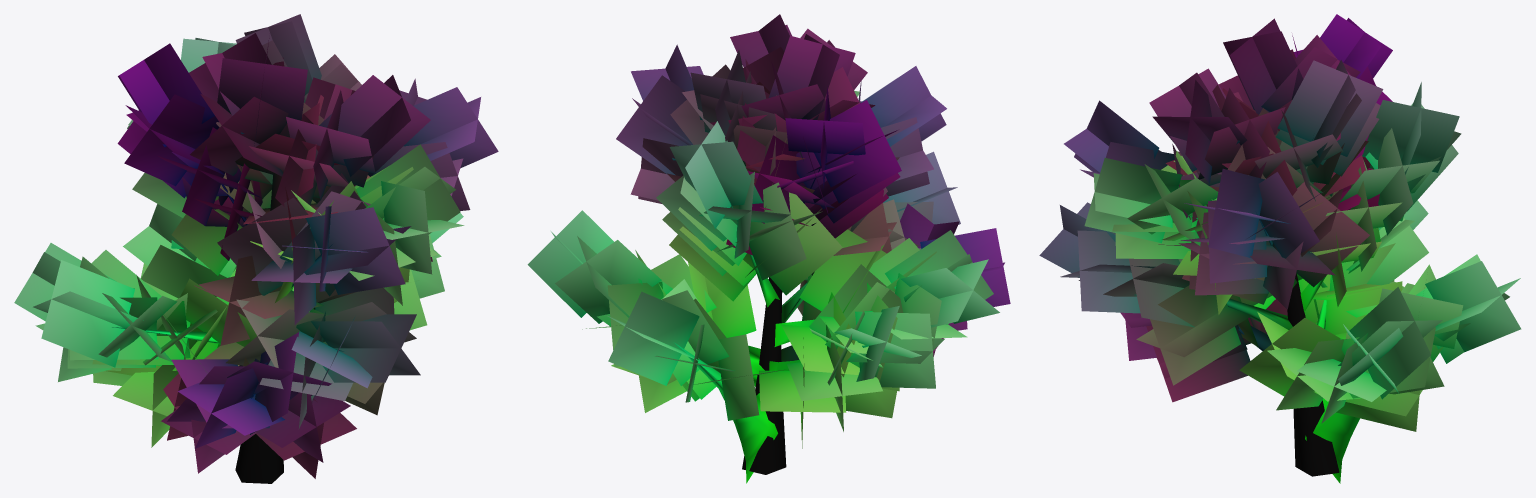
Rendered from URP_P11_Tree_10_LOD_3.fbx.
3 renders of one model, left to right at view 1: azimuth 30°, elevation 25°; view 2: azimuth 150°, elevation 25°; view 3: azimuth 270°, elevation 25°, orthographic. The views are drawn at different scales.
Visible parts, largest first — view 1: Tree_10_LOD_3; view 2: Tree_10_LOD_3; view 3: Tree_10_LOD_3.
Part boxes in pixels (x1,y1,x2,y2): Tree_10_LOD_3: (14,14,498,483); Tree_10_LOD_3: (527,14,1010,483); Tree_10_LOD_3: (1039,14,1521,483).
Size of the model in its own units: 632 by 625 by 613.
